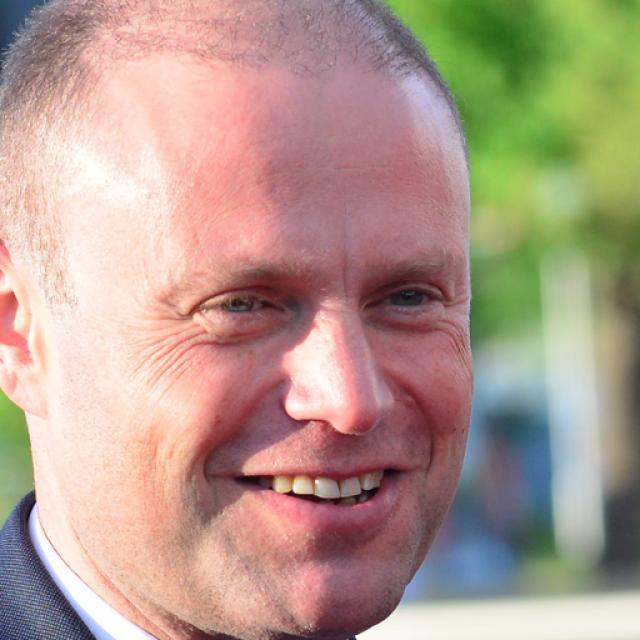happy: (69, 86, 476, 640)
